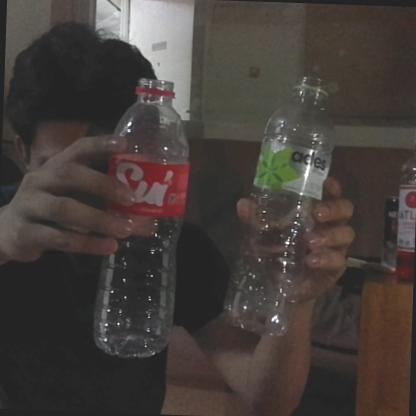plastic_bottles: (220, 73, 336, 341), (91, 75, 190, 357)
